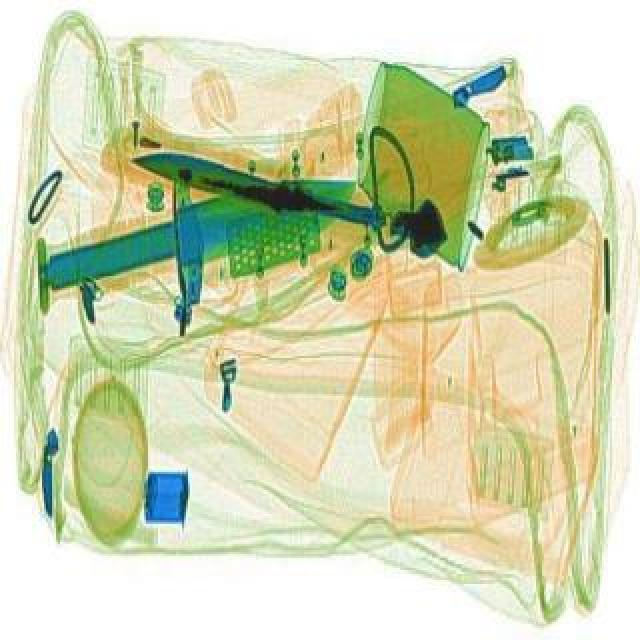knife: (34, 166, 366, 308), (128, 150, 390, 242)
